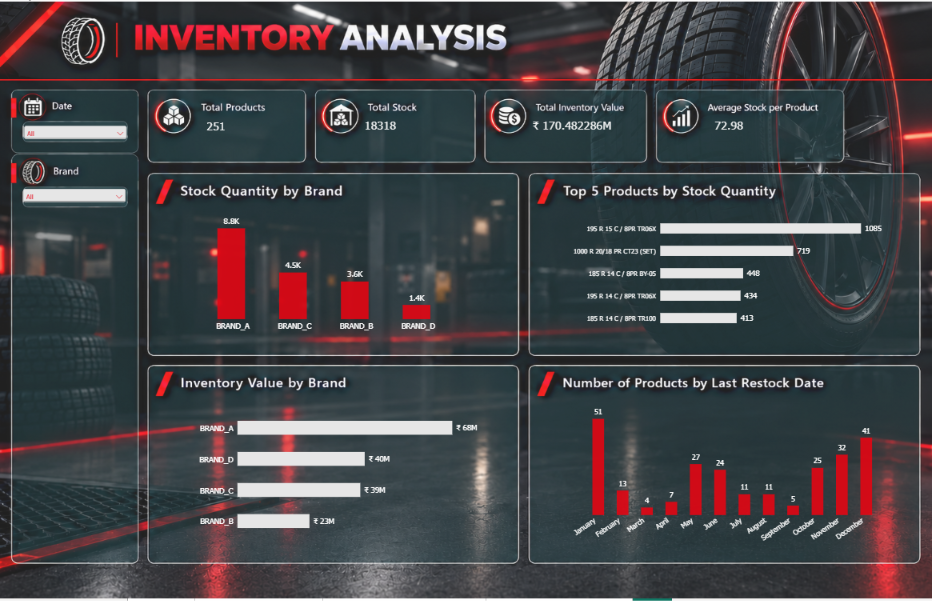

This screenshot's page, from the dashboard's own definition file:
{"tool":"powerbi","page":{"name":"INVENTORY ANALYSIS","canvas":[1940,1240],"ordinal":2},"visuals":[{"type":"cardVisual","fields":{"Data":["Current Stock.Total Products"]},"box":[413.9,185.1,222.5,147.7],"z":0},{"type":"cardVisual","fields":{"Data":["Current Stock.Total Stock"]},"box":[742.5,183,226.7,149.7],"z":1000},{"type":"cardVisual","fields":{"Data":["Current Stock.Total Inventory Value"]},"box":[1091.9,183,230.9,147.7],"z":2000},{"type":"cardVisual","fields":{"Data":["Current Stock.Avg stock of Product"]},"box":[1470.4,180.9,228.8,151.8],"z":3000},{"type":"columnChart","fields":{"Category":["Current Stock.Brand"],"Y":["Sum(Current Stock.Current Stock Qty)"]},"box":[384.8,420.1,584.4,284.9],"z":4000},{"type":"barChart","fields":{"Category":["Current Stock.Product Name"],"Y":["Sum(Current Stock.Current Stock Qty)"]},"box":[1152.2,420.1,698.8,284.9],"z":5000},{"type":"barChart","fields":{"Category":["Current Stock.Brand"],"Y":["Current Stock.Total Inventory Value"]},"box":[386.8,823.6,621.9,316.1],"z":6000},{"type":"columnChart","fields":{"Category":["Current Stock.Last Restock Date.Variation.Date Hierarchy.Month"],"Y":["CountNonNull(Current Stock.Product ID)"]},"box":[1168.8,809,682.2,349.4],"z":7000},{"type":"slicer","fields":{"Values":["Current Stock.Brand"]},"box":[43.7,384.8,222.5,35.4],"z":8000},{"type":"slicer","fields":{"Values":["Current Stock.Last Restock Date.Variation.Date Hierarchy.Year"]},"box":[45.8,253.7,222.5,41.6],"z":9000}]}

Visuals, with their boxes in screenshot pixels (x1, y1, x2, y2), scaled from the page's 1940x1240 canvas onto the 932x601 screenshot:
cardVisual - Current Stock.Total Products: 199 90 306 161
cardVisual - Current Stock.Total Stock: 357 89 466 161
cardVisual - Current Stock.Total Inventory Value: 525 89 635 160
cardVisual - Current Stock.Avg stock of Product: 706 88 816 161
columnChart - Current Stock.Brand x Sum(Current Stock.Current Stock Qty): 185 204 466 342
barChart - Current Stock.Product Name x Sum(Current Stock.Current Stock Qty): 554 204 889 342
barChart - Current Stock.Brand x Current Stock.Total Inventory Value: 186 399 485 552
columnChart - Current Stock.Last Restock Date.Variation.Date Hierarchy.Month x CountNonNull(Current Stock.Product ID): 562 392 889 561
slicer - Current Stock.Brand: 21 187 128 204
slicer - Current Stock.Last Restock Date.Variation.Date Hierarchy.Year: 22 123 129 143
